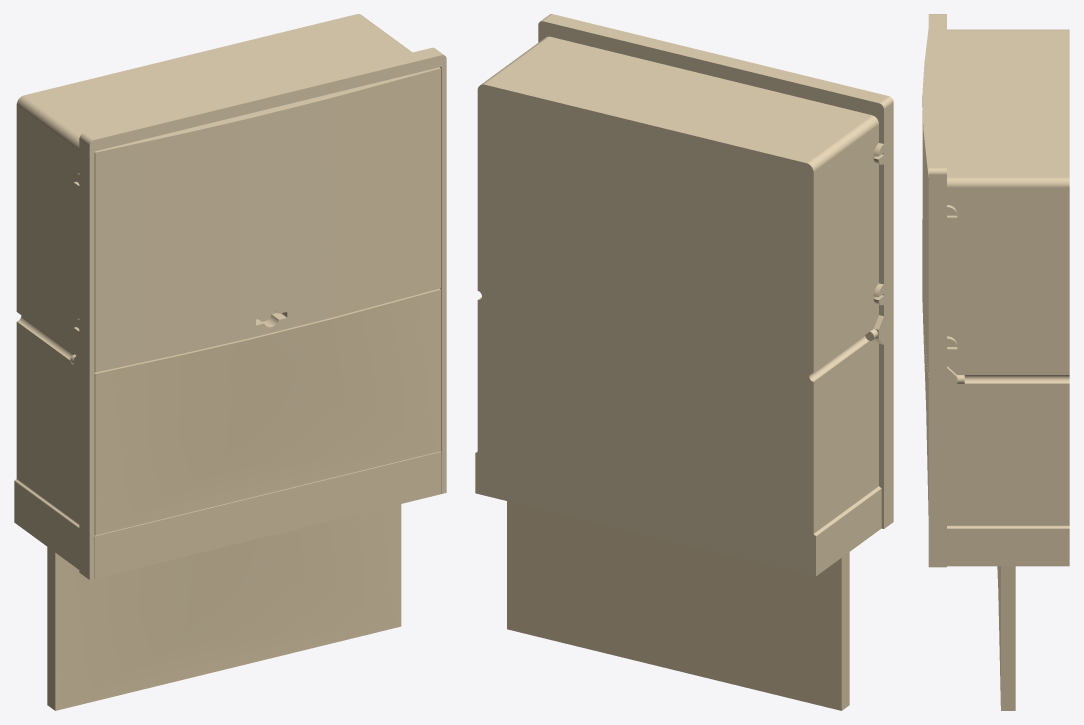
The model's file is cgv_coffret.glb.
3 views of the same model, side by side, from view 1: azimuth 30°, elevation 25°; view 2: azimuth 150°, elevation 25°; view 3: azimuth 270°, elevation 25° (orthographic). The views are drawn at different scales.
Visible parts, largest first — view 1: Body003.001, Body.001, Body002.001; view 2: Body003.001, Body.001, Body002.001; view 3: Body.001, Body003.001, Body002.001.
Part boxes in pixels (left/top/right/bottom): Body003.001: left=14, top=14, right=446, bottom=579; Body.001: left=14, top=14, right=446, bottom=579; Body002.001: left=47, top=504, right=401, bottom=710; Body003.001: left=475, top=36, right=882, bottom=576; Body.001: left=475, top=14, right=893, bottom=574; Body002.001: left=507, top=501, right=849, bottom=710; Body.001: left=928, top=14, right=1069, bottom=567; Body003.001: left=922, top=28, right=1069, bottom=526; Body002.001: left=997, top=566, right=1015, bottom=710.
Size of the model in its own units: 0.53 by 0.851 by 0.2091.
